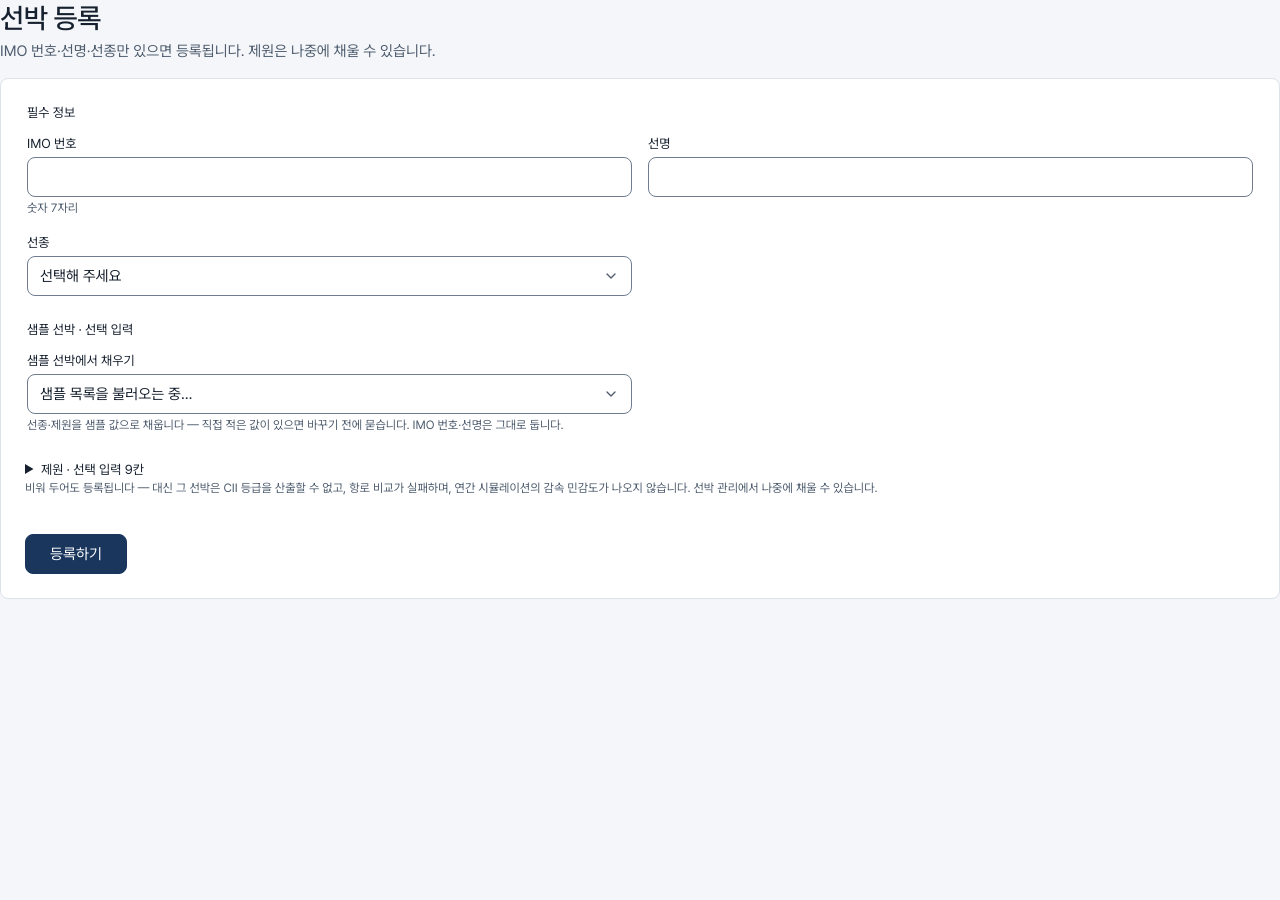
Test: 샘플 덮어쓰기 확인 (#1526) › 직접 입력한 값이 있어도 확인하면 샘플 값으로 덮는다
Type "9000015" into the field labelled "IMO 번호" at [330, 177], box [27,157,632,197]
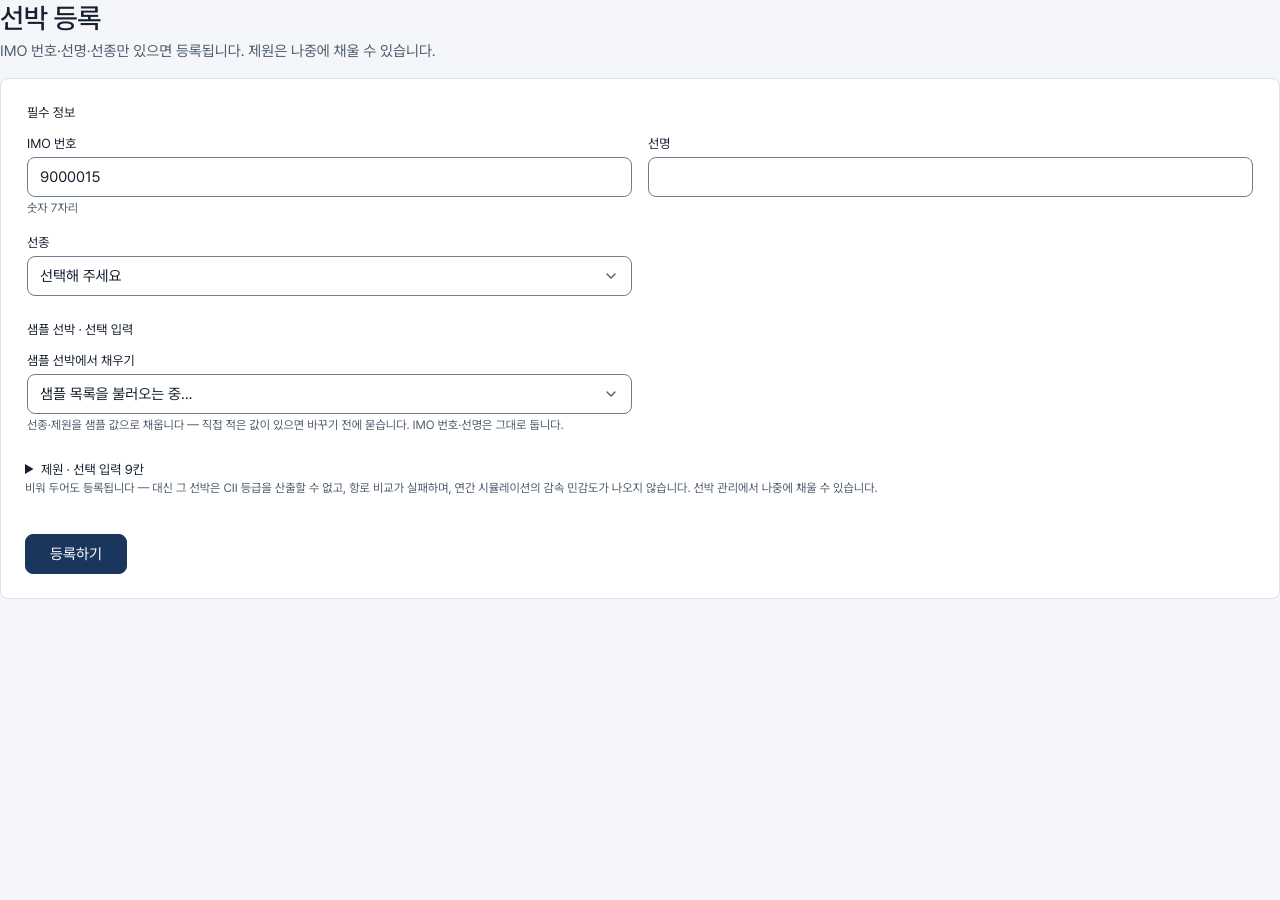
Type "알파호" into the field labelled "선명" at [950, 177], box [648,157,1253,197]
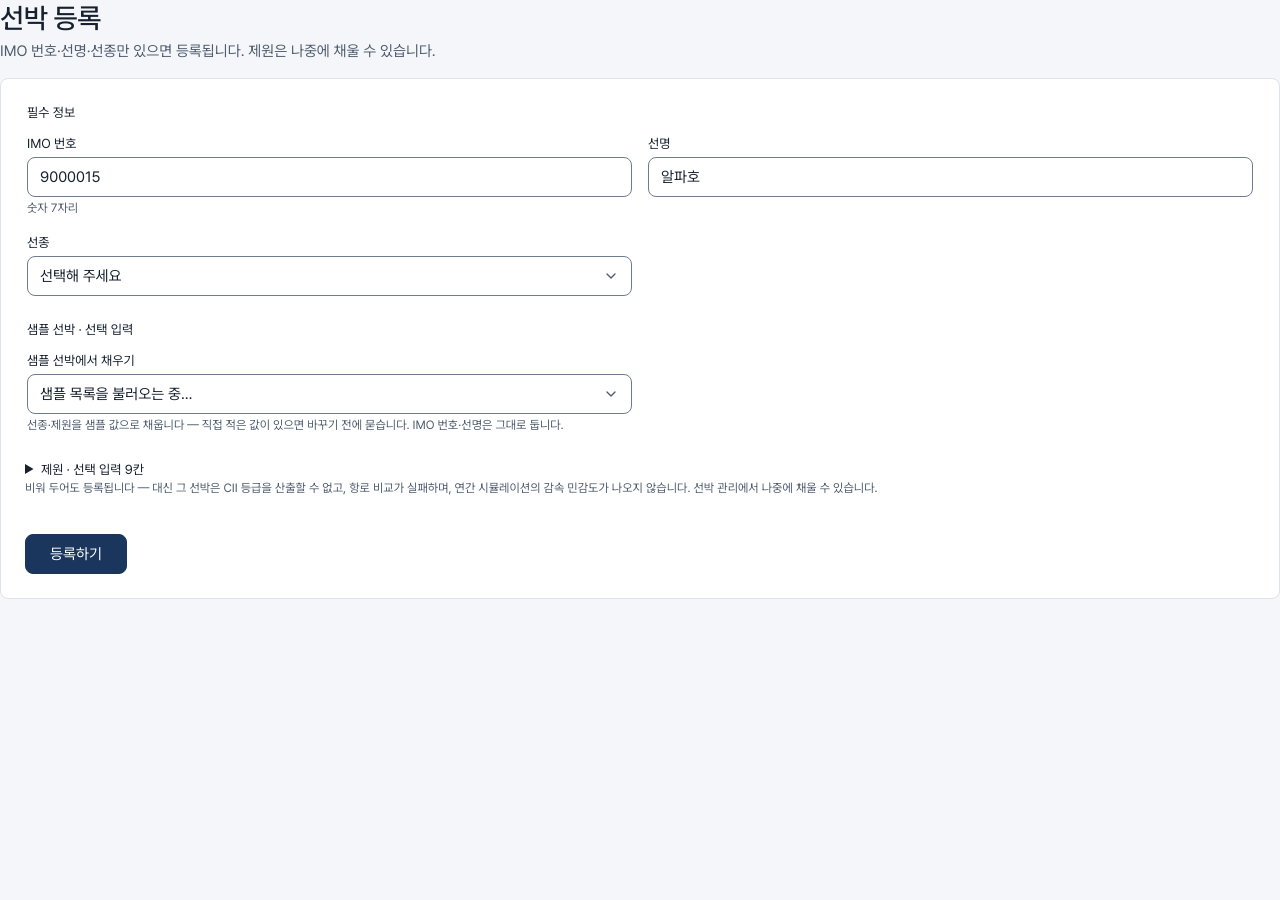
Replace the text in the field named "재화중량톤수" with "12345" at [451, 479], box [25,462,878,495]
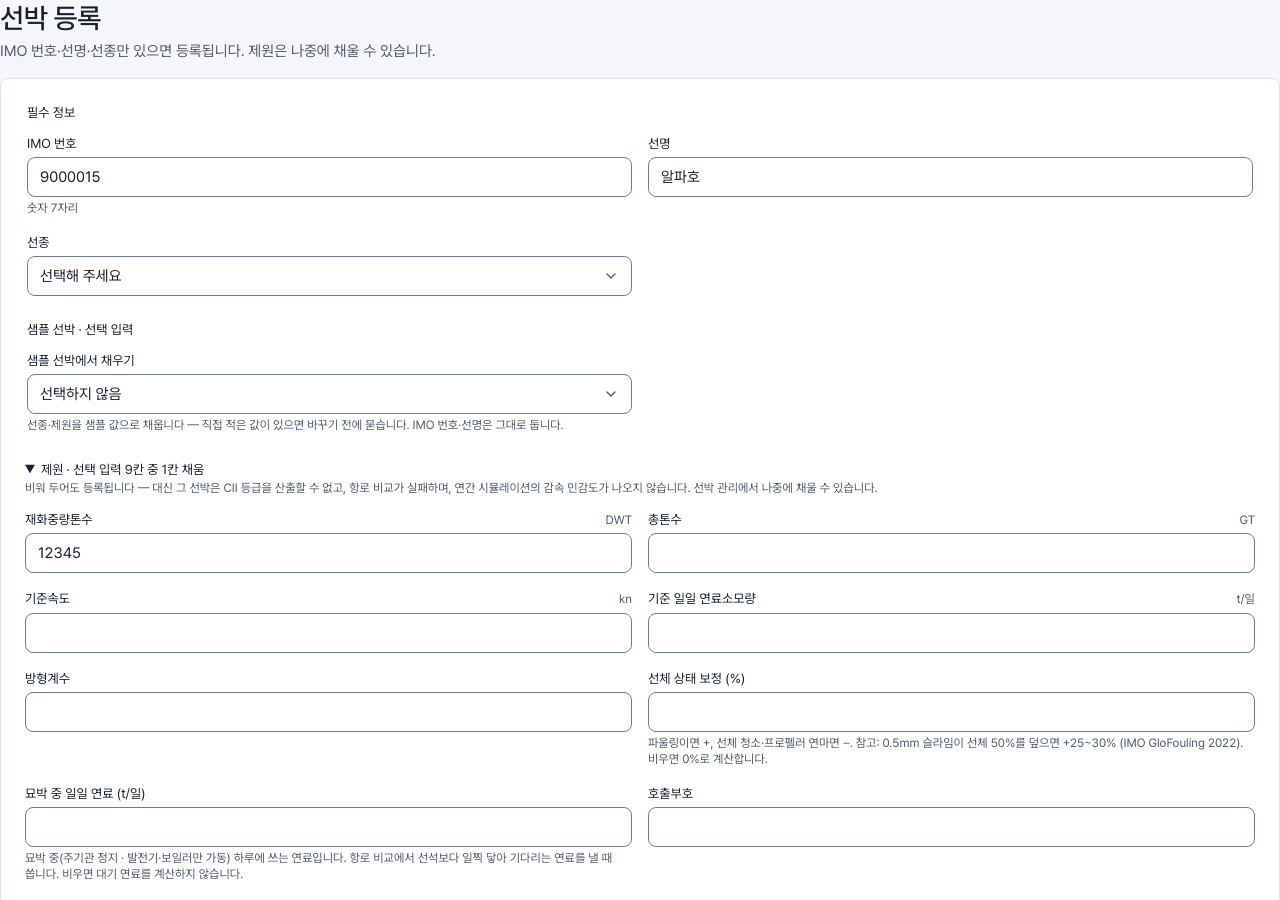
Select "벌크선 (5만 DWT급)" in the dropdown labelled "샘플 선박에서 채우기" at [330, 394], box [27,374,632,414]
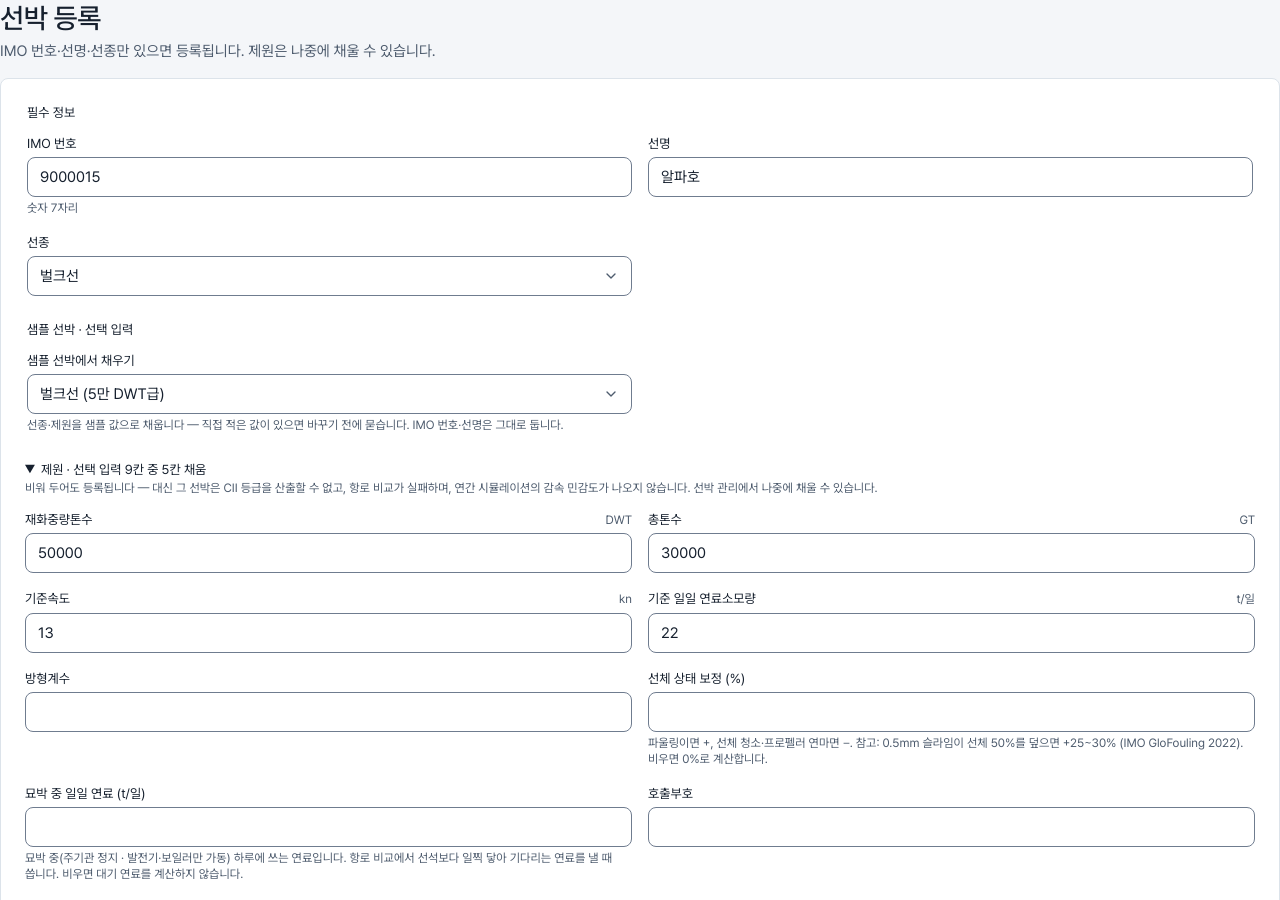
Expected: the field labelled "재화중량톤수 DWT" holds "50000", [25,534,632,574]
